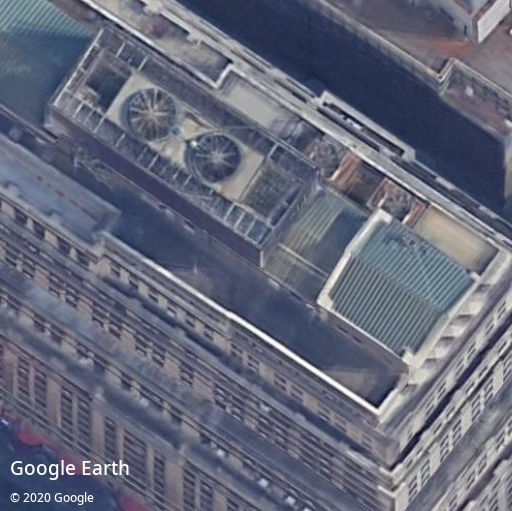Vent: (128, 88, 178, 140), (193, 133, 240, 181)
